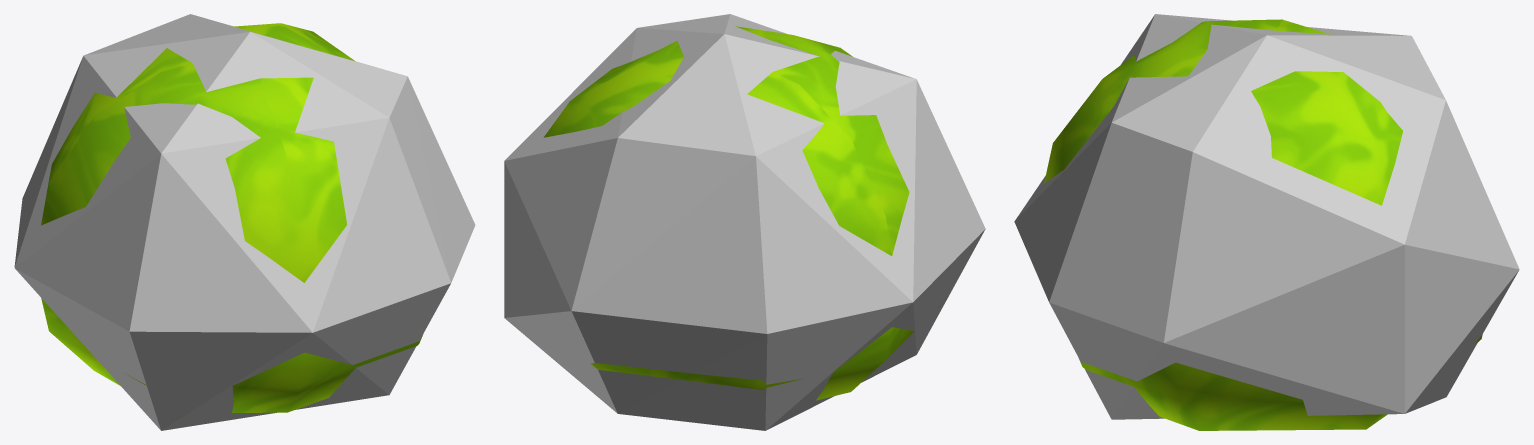
Rendered from SM_Vegetables01_4.fbx.
3 views of the same model, side by side, from view 1: azimuth 30°, elevation 25°; view 2: azimuth 150°, elevation 25°; view 3: azimuth 270°, elevation 25° (orthographic). The views are drawn at different scales.
Visible parts, largest first — view 1: SM_Vegetables01_4_ConvexHulls, SM_Vegetables01_4; view 2: SM_Vegetables01_4_ConvexHulls, SM_Vegetables01_4; view 3: SM_Vegetables01_4_ConvexHulls, SM_Vegetables01_4.
Boxes of the visible parts, x1=… form: SM_Vegetables01_4_ConvexHulls: x1=14, y1=14, x2=475, y2=430; SM_Vegetables01_4: x1=41, y1=23, x2=422, y2=412; SM_Vegetables01_4_ConvexHulls: x1=504, y1=14, x2=985, y2=430; SM_Vegetables01_4: x1=543, y1=26, x2=947, y2=400; SM_Vegetables01_4_ConvexHulls: x1=1014, y1=14, x2=1519, y2=419; SM_Vegetables01_4: x1=1044, y1=19, x2=1482, y2=430.
Size of the model in its own units: 30.53 by 32 by 26.44.
Materials: 2 (1 with a texture image).
